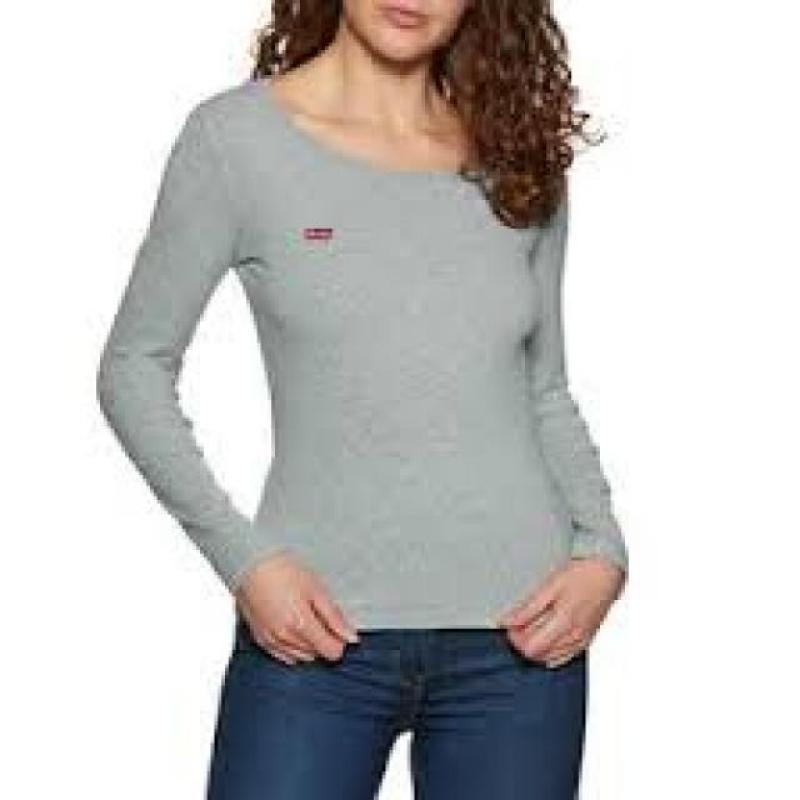long sleeve shirt: (94, 84, 631, 628)
trousers: (204, 621, 593, 800)
